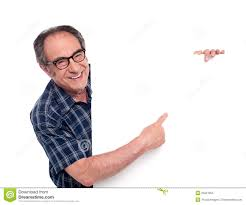hand: (134, 108, 176, 151)
